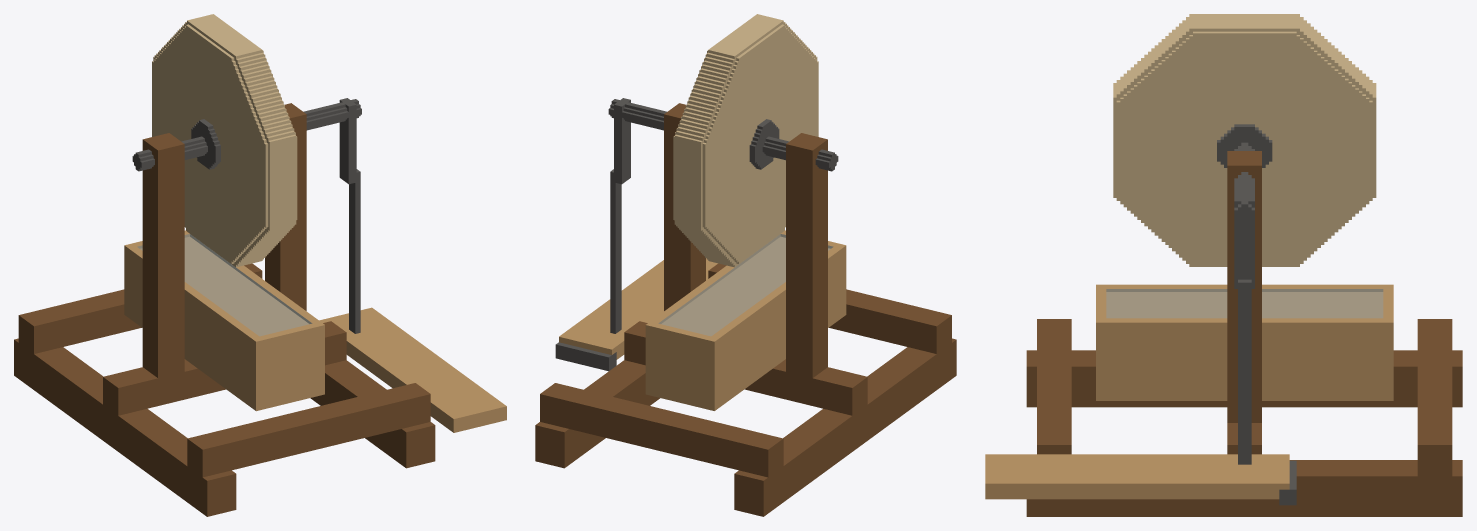
File: pedal_grindstone.glb
The picture shows the model from 3 angles, left to right: view 1: azimuth 30°, elevation 25°; view 2: azimuth 150°, elevation 25°; view 3: azimuth 270°, elevation 25°; orthographic projection. The views are drawn at different scales.
Visible parts, largest first — view 1: pedal_grindstone:compound; view 2: pedal_grindstone:compound; view 3: pedal_grindstone:compound.
Boxes of the visible parts, bbox=[...] form: pedal_grindstone:compound: bbox=[14, 14, 506, 516]; pedal_grindstone:compound: bbox=[535, 14, 956, 516]; pedal_grindstone:compound: bbox=[985, 14, 1462, 516].
Size of the model in its own units: 0.424 by 0.552 by 0.552.
